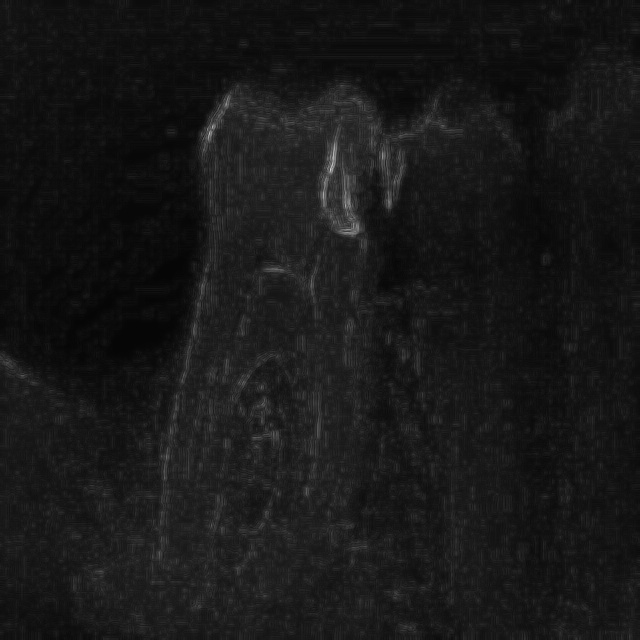cavity: (137, 44, 399, 617)
